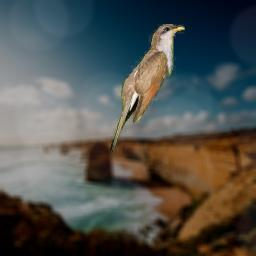Cuckoo: (110, 24, 186, 154)
